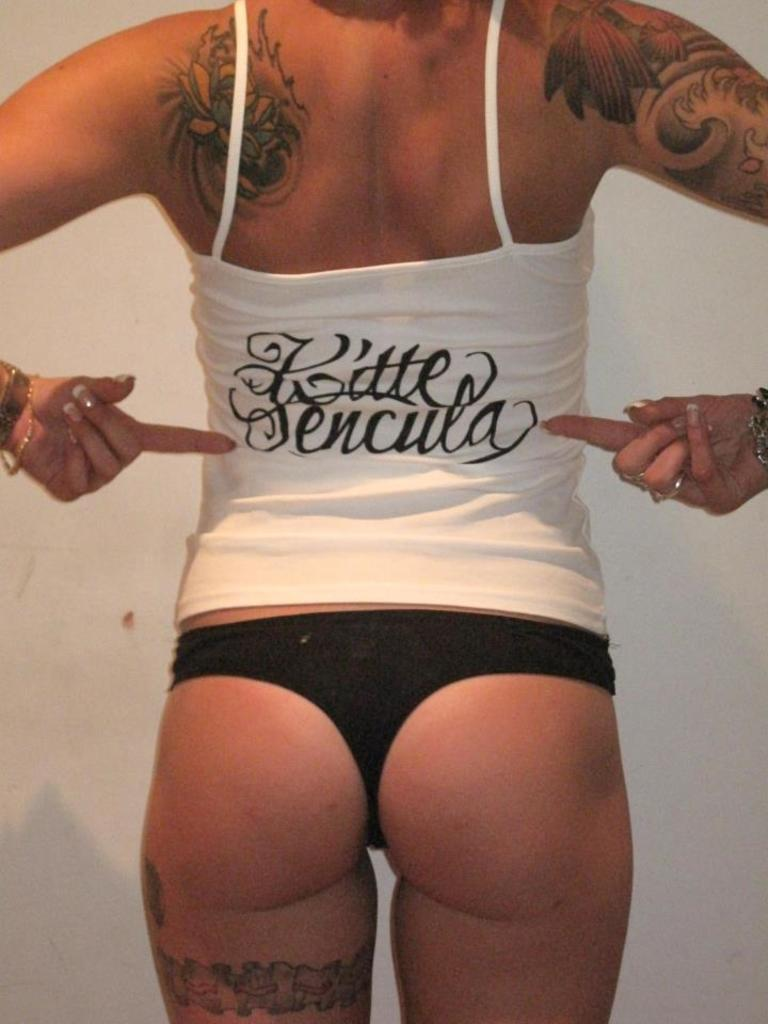Human_hand: (0, 371, 238, 506), (545, 389, 767, 524)
